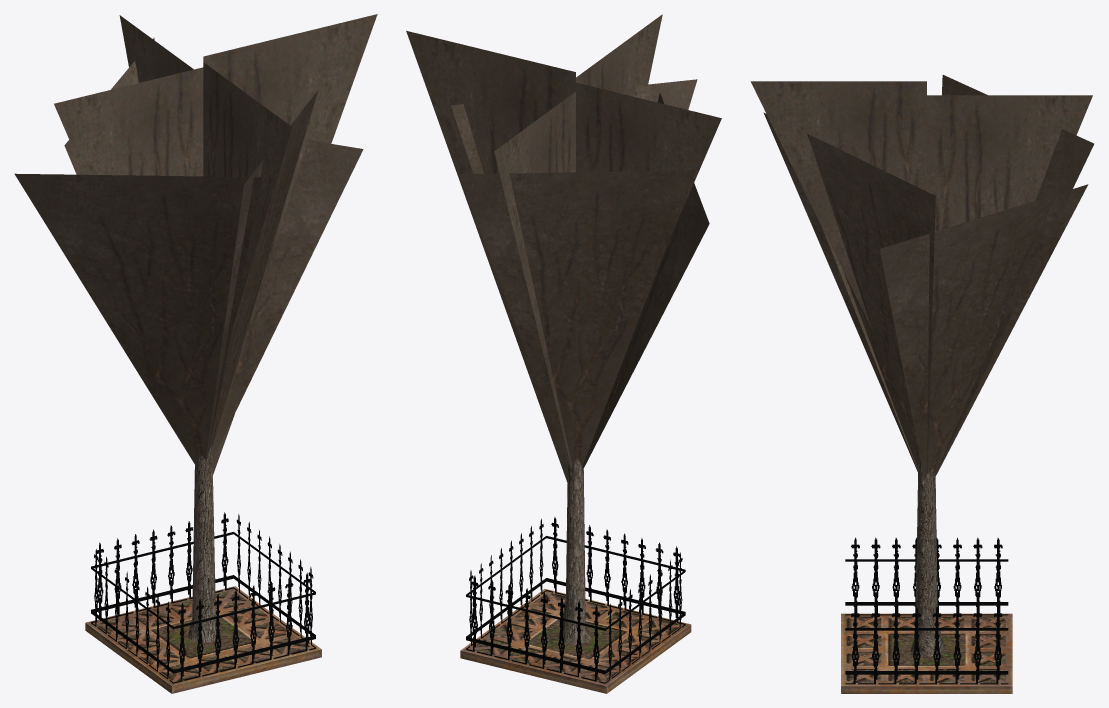
File: tree2b_base.fbx
The picture shows the model from 3 angles, left to right: view 1: azimuth 30°, elevation 25°; view 2: azimuth 150°, elevation 25°; view 3: azimuth 270°, elevation 25°; orthographic projection. The views are drawn at different scales.
Visible parts, largest first — view 1: mesh_4, mesh_2, mesh_0, mesh_3; view 2: mesh_4, mesh_2, mesh_0, mesh_3; view 3: mesh_4, mesh_2, mesh_0, mesh_3.
Part boxes in pixels (bbox=[...]): mesh_4: bbox=[14, 14, 377, 474]; mesh_2: bbox=[85, 586, 321, 693]; mesh_0: bbox=[91, 512, 315, 683]; mesh_3: bbox=[187, 175, 221, 642]; mesh_4: bbox=[406, 14, 721, 482]; mesh_2: bbox=[460, 589, 691, 693]; mesh_0: bbox=[466, 517, 685, 683]; mesh_3: bbox=[558, 458, 591, 645]; mesh_4: bbox=[750, 75, 1093, 480]; mesh_2: bbox=[841, 613, 1012, 693]; mesh_0: bbox=[845, 537, 1008, 684]; mesh_3: bbox=[910, 190, 944, 656].
Bounding box in the file's own units: 449 × 748 × 401.
Materials: 4 (4 with a texture image).
